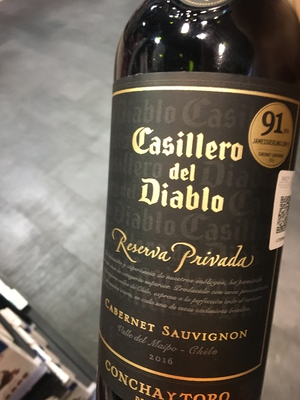casillero del diablo reserva privada cabernet sauvignon: (72, 8, 300, 391)
